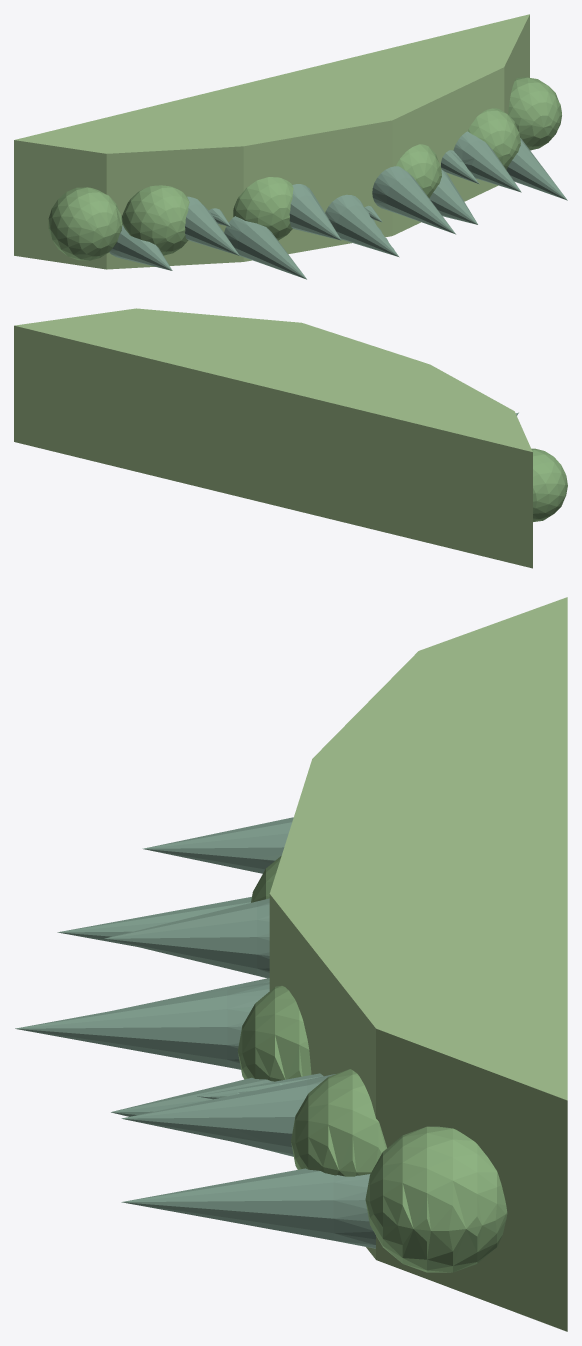
File: r-13-prygl-wooded-ridge.glb
The picture shows the model from 3 angles, top to bottom: view 1: azimuth 30°, elevation 25°; view 2: azimuth 150°, elevation 25°; view 3: azimuth 270°, elevation 25°; orthographic projection. The views are drawn at different scales.
Visible parts, largest first — view 1: hill, pines, broadleaf; view 2: hill, broadleaf; view 3: hill, pines, broadleaf.
Part boxes in pixels (bbox=[...]): hill: bbox=[14, 14, 529, 269]; pines: bbox=[109, 131, 567, 279]; broadleaf: bbox=[48, 77, 561, 260]; hill: bbox=[14, 308, 532, 568]; broadleaf: bbox=[531, 448, 567, 521]; hill: bbox=[269, 597, 567, 1331]; pines: bbox=[15, 817, 375, 1248]; broadleaf: bbox=[237, 856, 507, 1272].
Size of the model in its own units: 56000 by 11997 by 26000.
